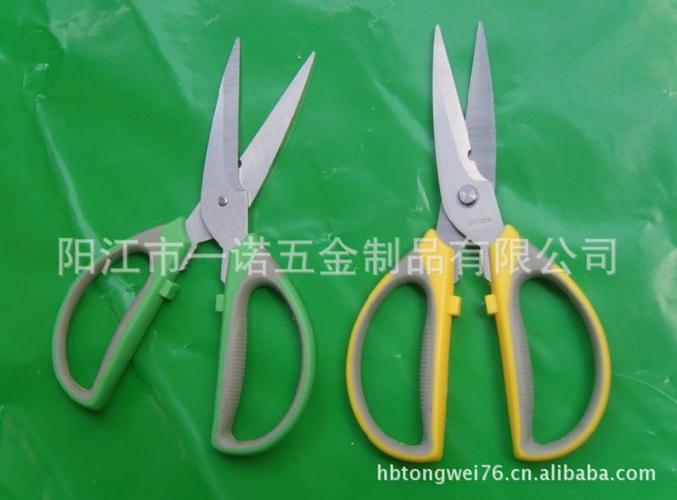scissor: (344, 20, 611, 462), (51, 37, 318, 451)
